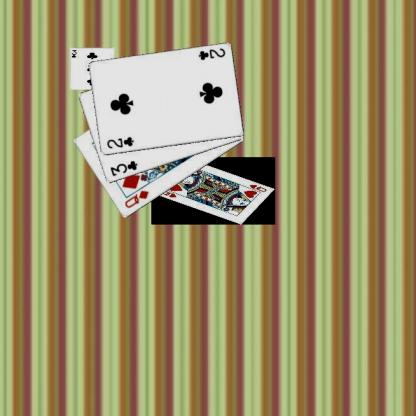2C: (104, 134, 135, 150), (196, 45, 226, 61)
3C: (108, 158, 138, 178)
QD: (122, 188, 150, 210)
